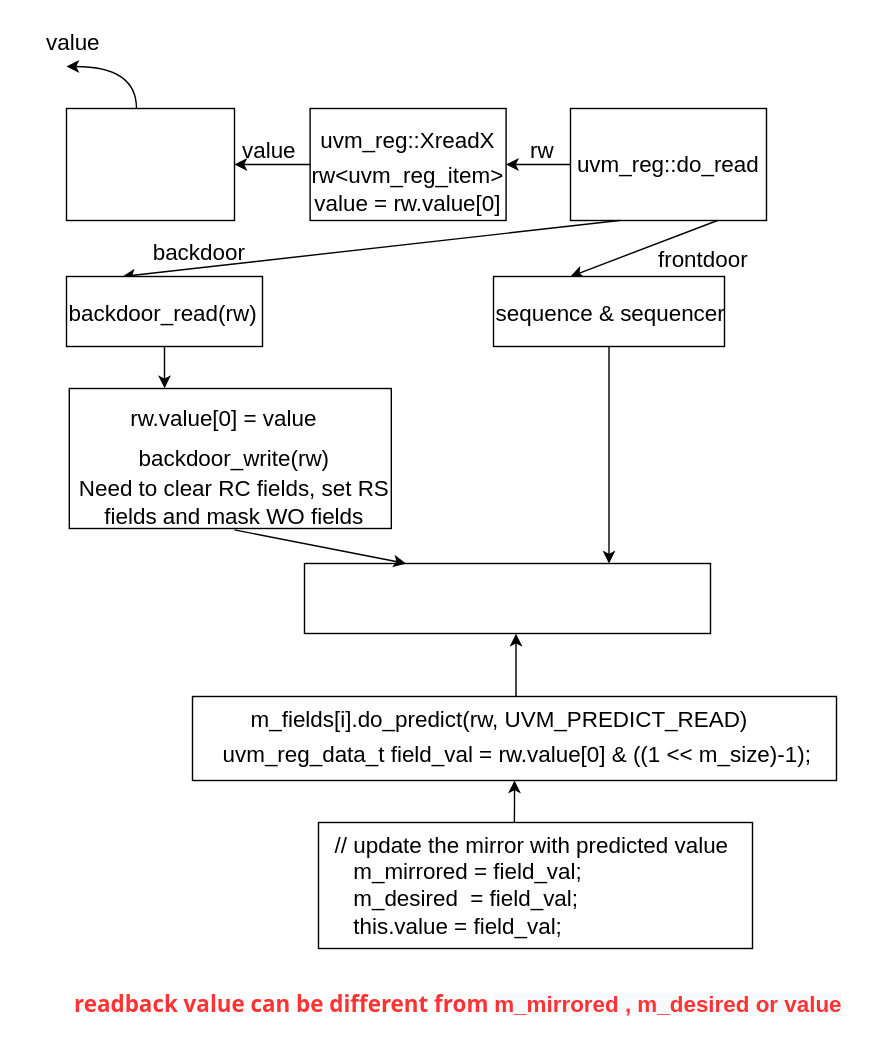
The diagram is 888 pixels wide and 1056 high, and some of its shapes have lost their labels. Each missing label, with the box of its shape:
do_predict(rw, UVM_PREDICT_READ): (303, 562, 710, 634)
uvm_reg::read: (65, 107, 234, 220)
